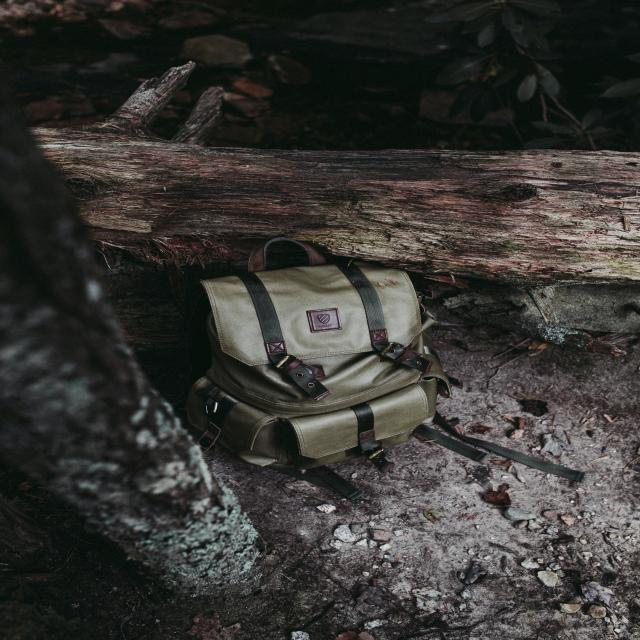backpack: (190, 241, 455, 467)
